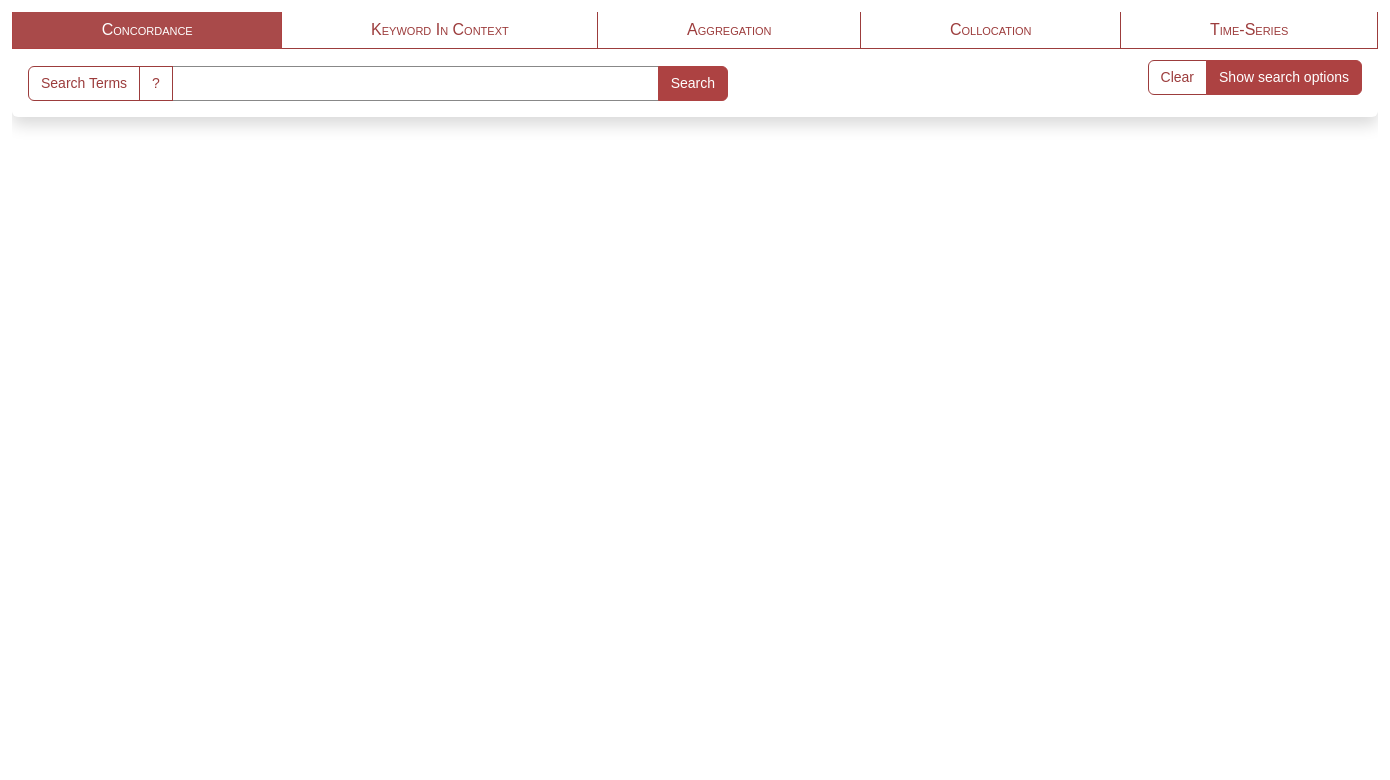
Scenario: SearchForm › shows time series params when time_series report selected
What coordinates should you click on to do the following:
click the button with id "show-search-form"
I would click on:
 (1284, 78)
Its box is [1206, 60, 1362, 95].
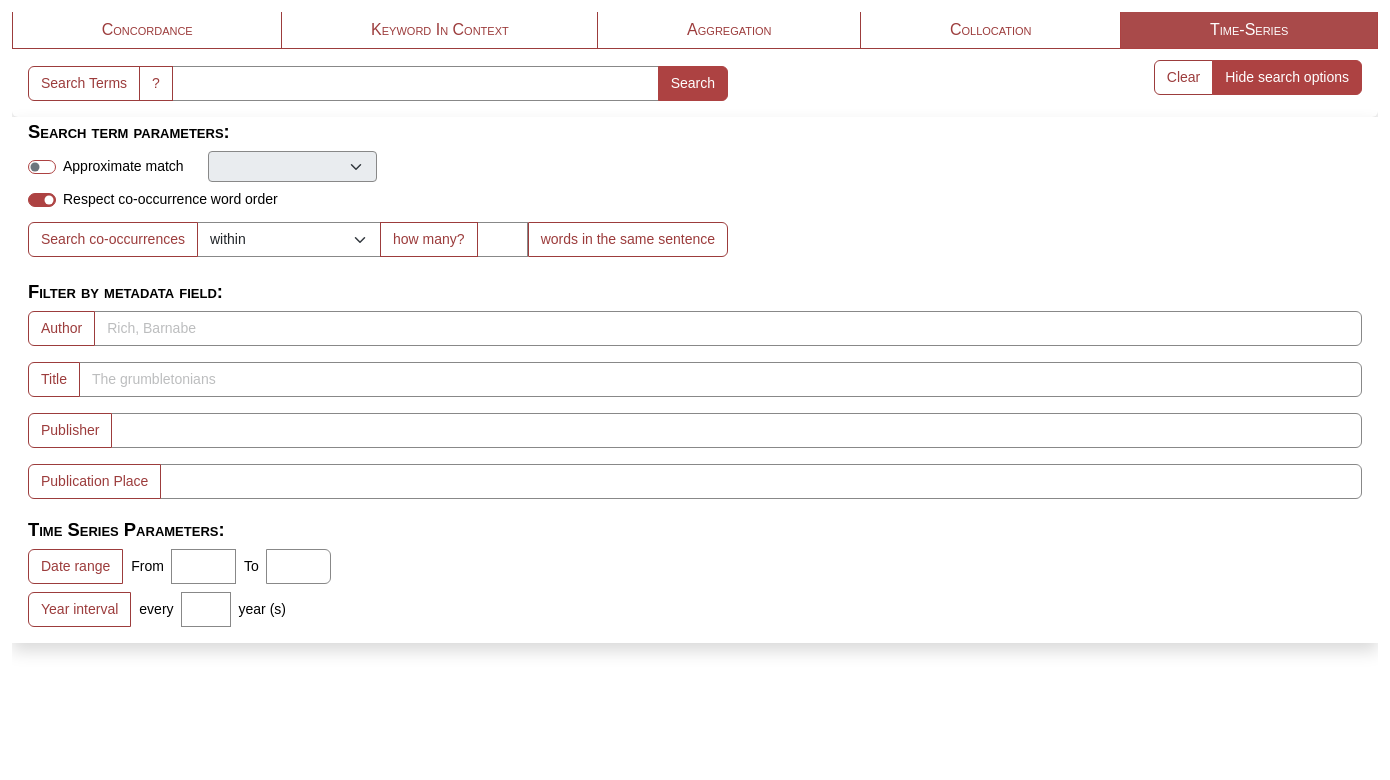
Expected: the element with id "time-series-params" is shown, [28, 519, 331, 627]
